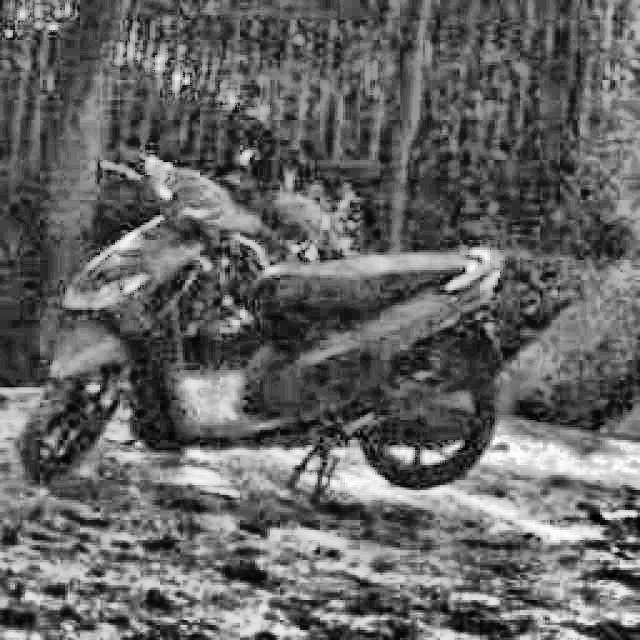motorcycle: (25, 130, 512, 507)
